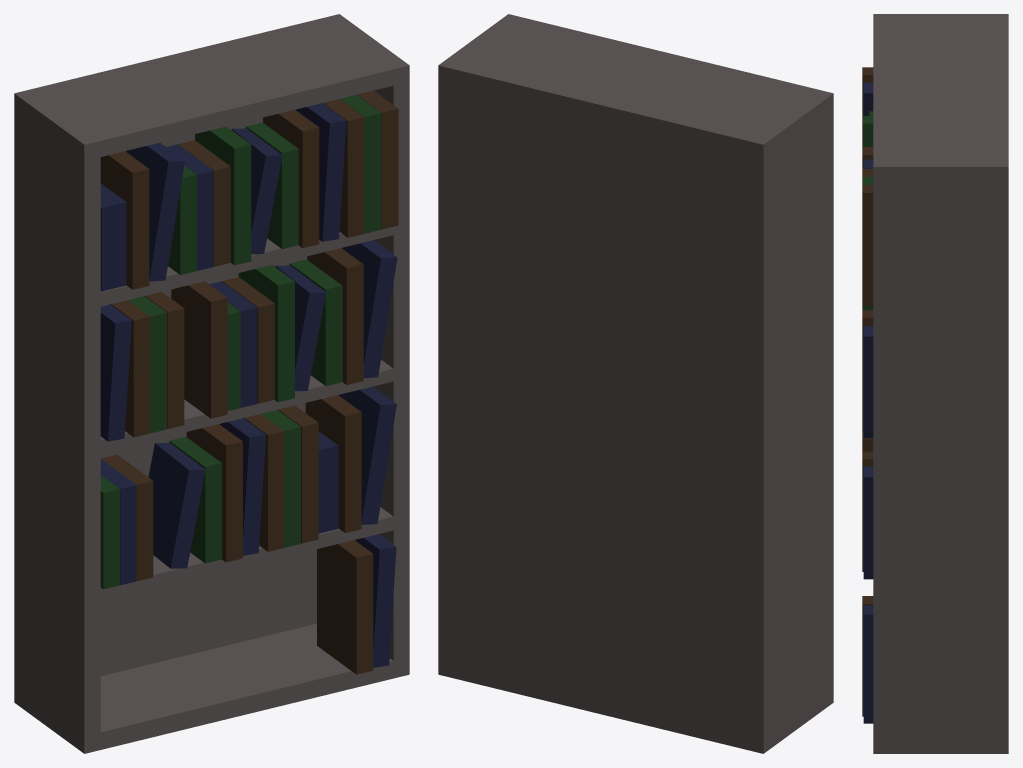
Rendered from tall_bookshelf.fbx.
The picture shows the model from 3 angles, left to right: view 1: azimuth 30°, elevation 25°; view 2: azimuth 150°, elevation 25°; view 3: azimuth 270°, elevation 25°; orthographic projection. The views are drawn at different scales.
Visible parts, largest first — view 1: pCube54, pCube55, pCube78, pCube87, pCube69, pCube109, pCube108, pCube70, pCube71, pCube102, pCube111, pCube115 (+31 smaller); view 2: pCube54; view 3: pCube54, pCube67, pCube56, pCube70, pCube102, pCube101, pCube69, pCube108, pCube55, pCube111, pCube109, pCube115.
Part boxes in pixels (x1,y1,x2,y2): pCube54: (14, 14, 409, 753); pCube55: (317, 540, 373, 674); pCube78: (171, 281, 227, 418); pCube87: (148, 442, 205, 568); pCube69: (305, 395, 361, 532); pCube109: (100, 151, 149, 289); pCube108: (126, 142, 184, 281); pCube70: (338, 386, 396, 524); pCube71: (100, 304, 131, 441); pCube102: (342, 240, 397, 378); pCube111: (195, 126, 251, 265); pCube115: (263, 109, 319, 248); pCube54: (438, 14, 833, 753); pCube54: (873, 14, 1008, 753); pCube67: (862, 185, 873, 305); pCube56: (863, 605, 873, 723); pCube70: (863, 466, 873, 579); pCube102: (863, 326, 873, 438); pCube101: (862, 310, 873, 430); pCube69: (862, 451, 873, 571); pCube108: (863, 82, 873, 115); pCube55: (862, 596, 873, 716); pCube111: (863, 116, 873, 146); pCube109: (862, 67, 873, 146); pCube115: (862, 147, 873, 267).
Size of the model in its own units: 1.39 by 2.48 by 0.5609.
